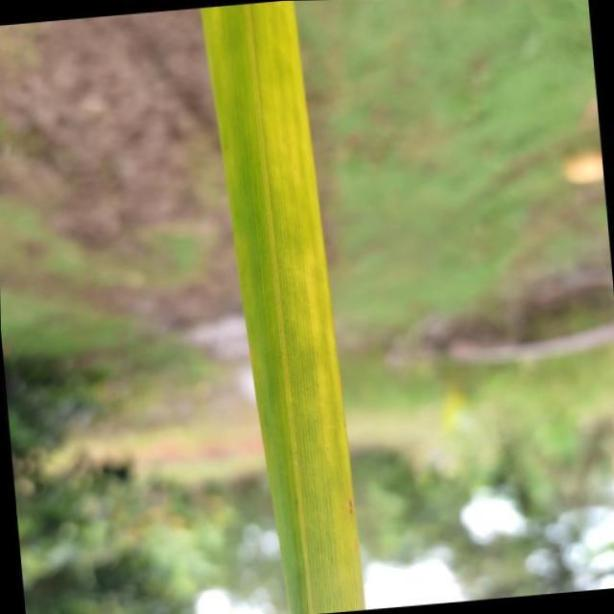nitrogen: (200, 0, 361, 614)
